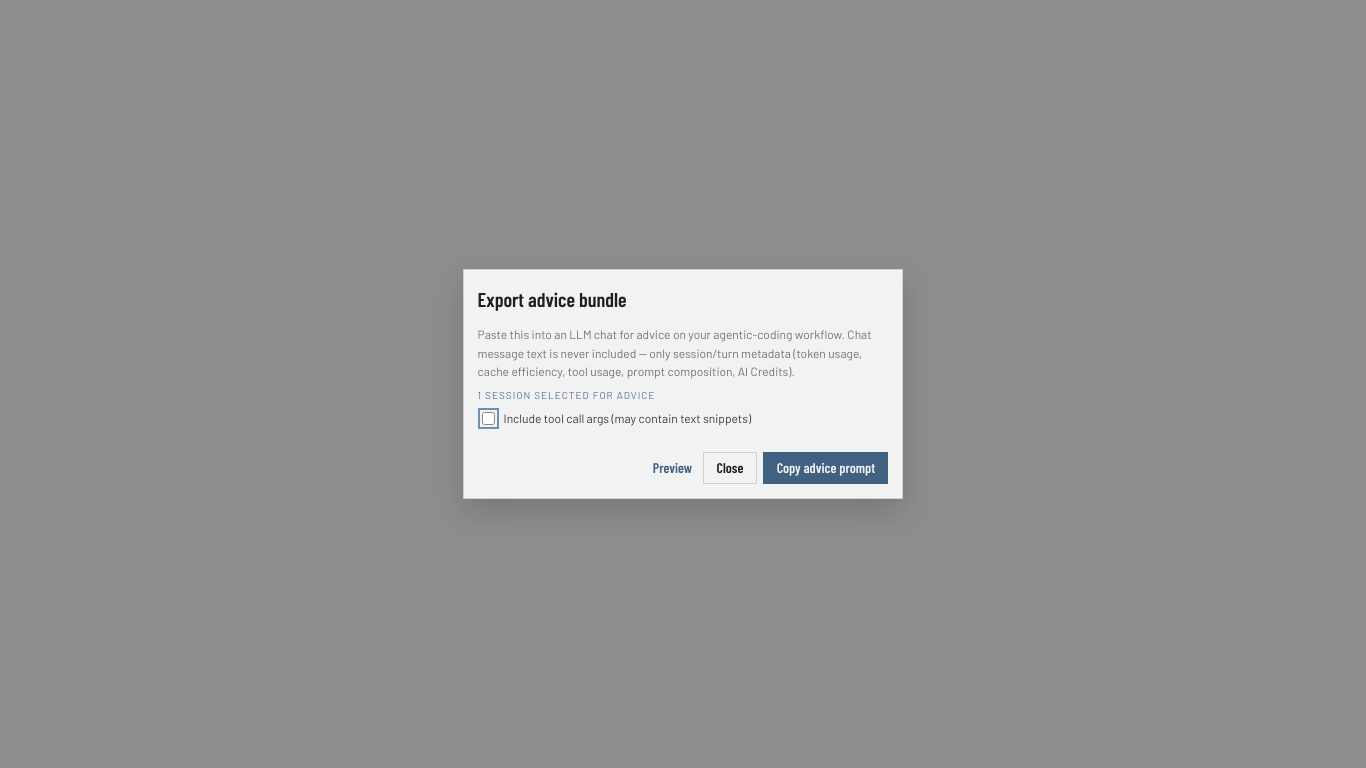
Scenario: AdviceExportDialog › copies the generated bundle to the clipboard and shows a confirmation
Click the button "Copy advice prompt": (826, 468) [763, 452, 888, 484]
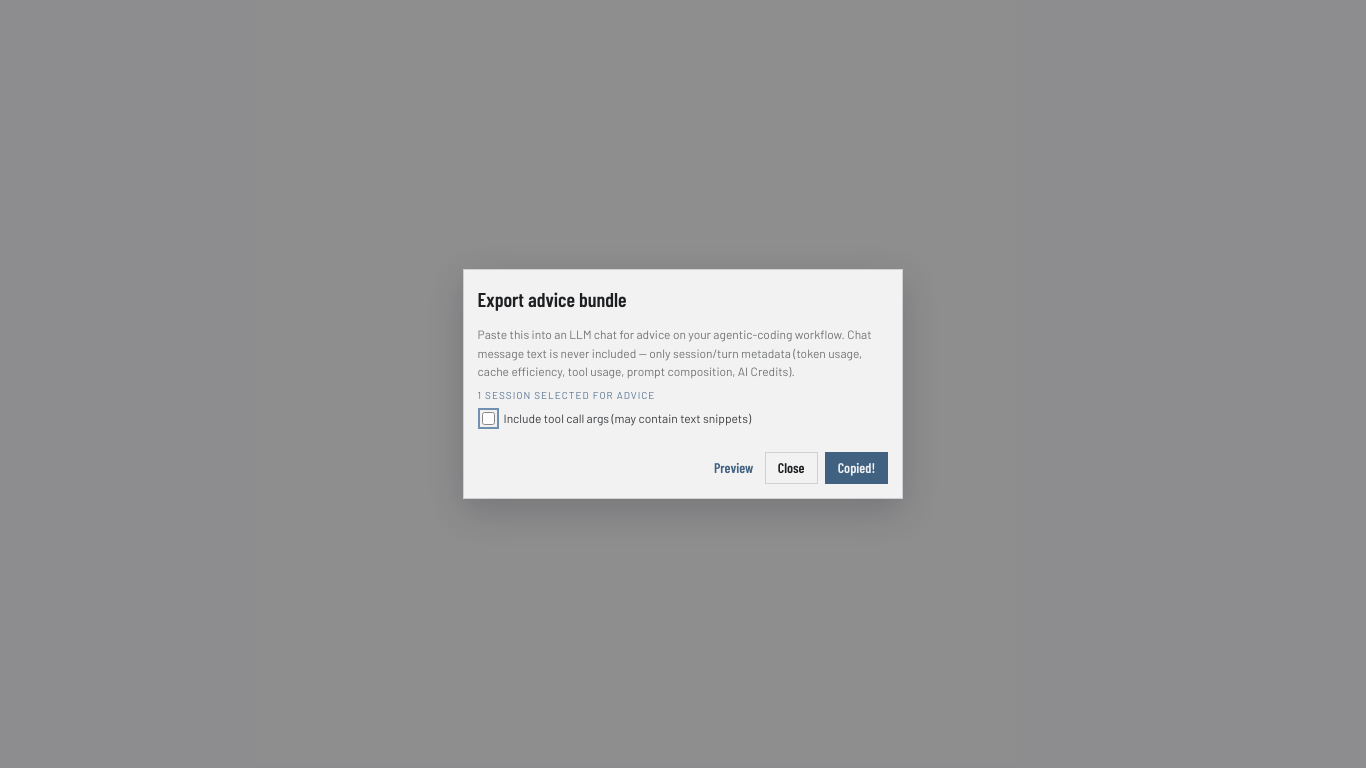
expect the button "Copied!" is shown: met, box [824, 452, 888, 484]
